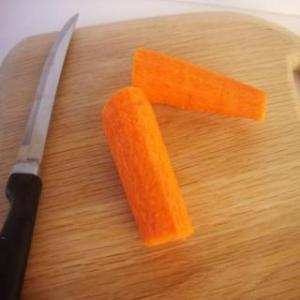carrot: (99, 90, 195, 250), (132, 43, 266, 121)
